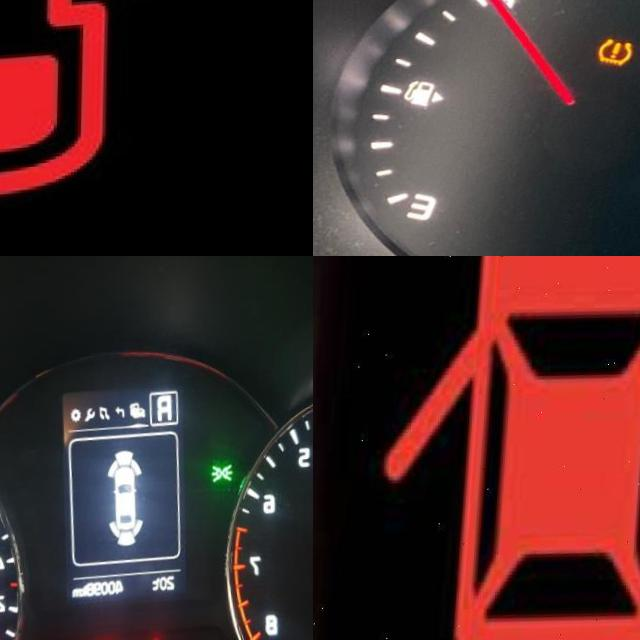SideLamp: (213, 466, 238, 488)
